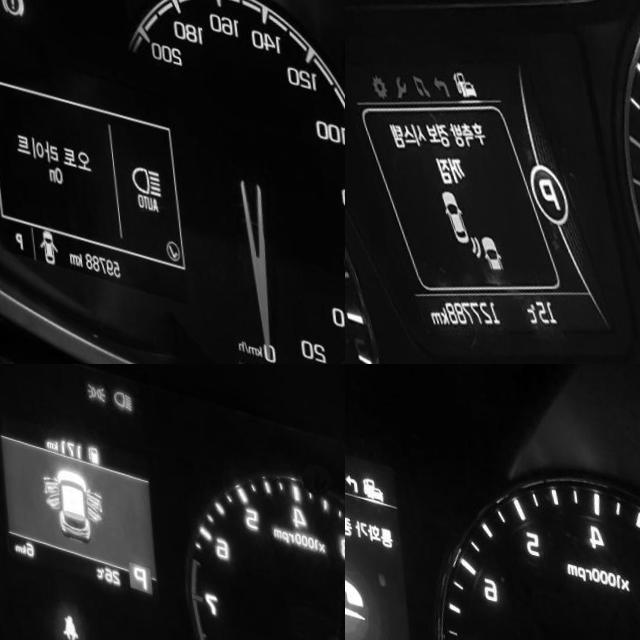Low beam: (109, 370, 129, 393)
SideLamp: (83, 364, 103, 386)
